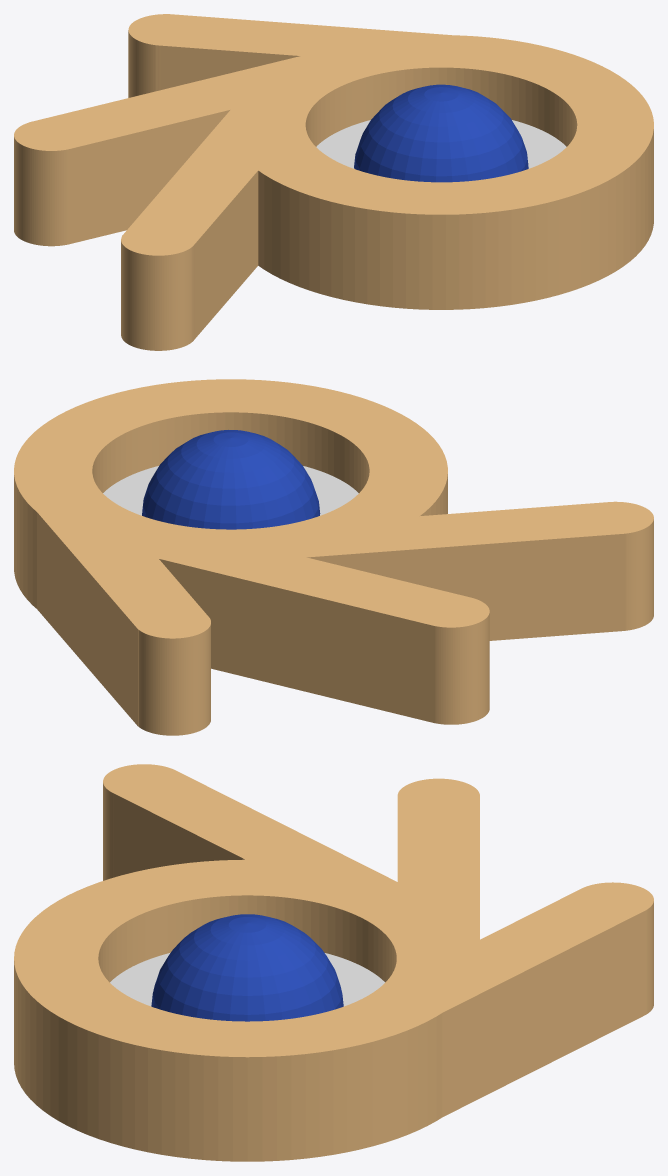
File: blender.glb
The picture shows the model from 3 angles, top to bottom: view 1: azimuth 30°, elevation 25°; view 2: azimuth 150°, elevation 25°; view 3: azimuth 270°, elevation 25°; orthographic projection. The views are drawn at different scales.
Visible parts, largest first — view 1: blender; view 2: blender; view 3: blender.
Boxes of the visible parts, x1,y1,x2,y2 form: blender: (14,14,653,350); blender: (14,379,653,735); blender: (14,764,653,1161).
Size of the model in its own units: 2.52 by 0.7036 by 2.33.
